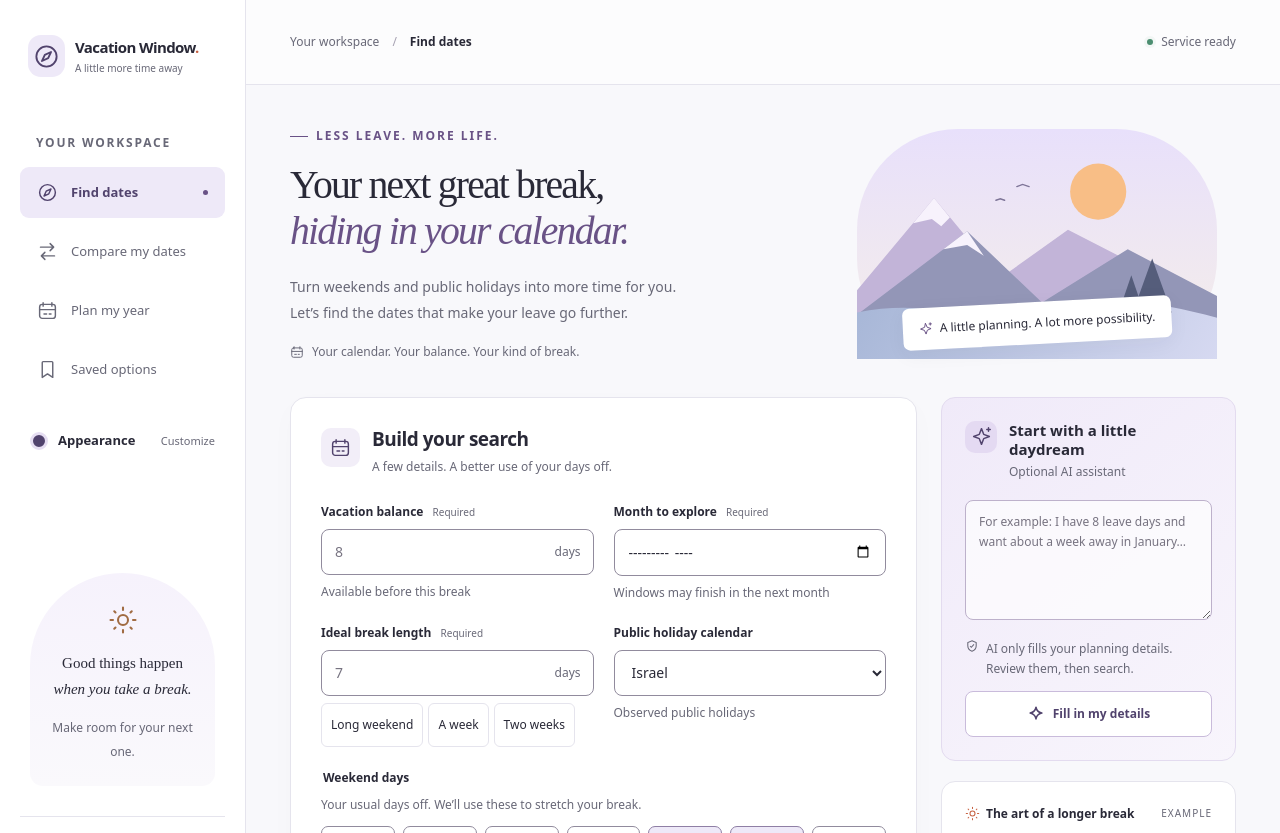
explicit generation shows aggregate leave and chronological charged dates
Check: the text "Service ready" is shown, box x1=1147 y1=33 x2=1236 y2=51
Click the button "Plan my year" at (122, 310), box x1=20 y1=285 x2=225 y2=336
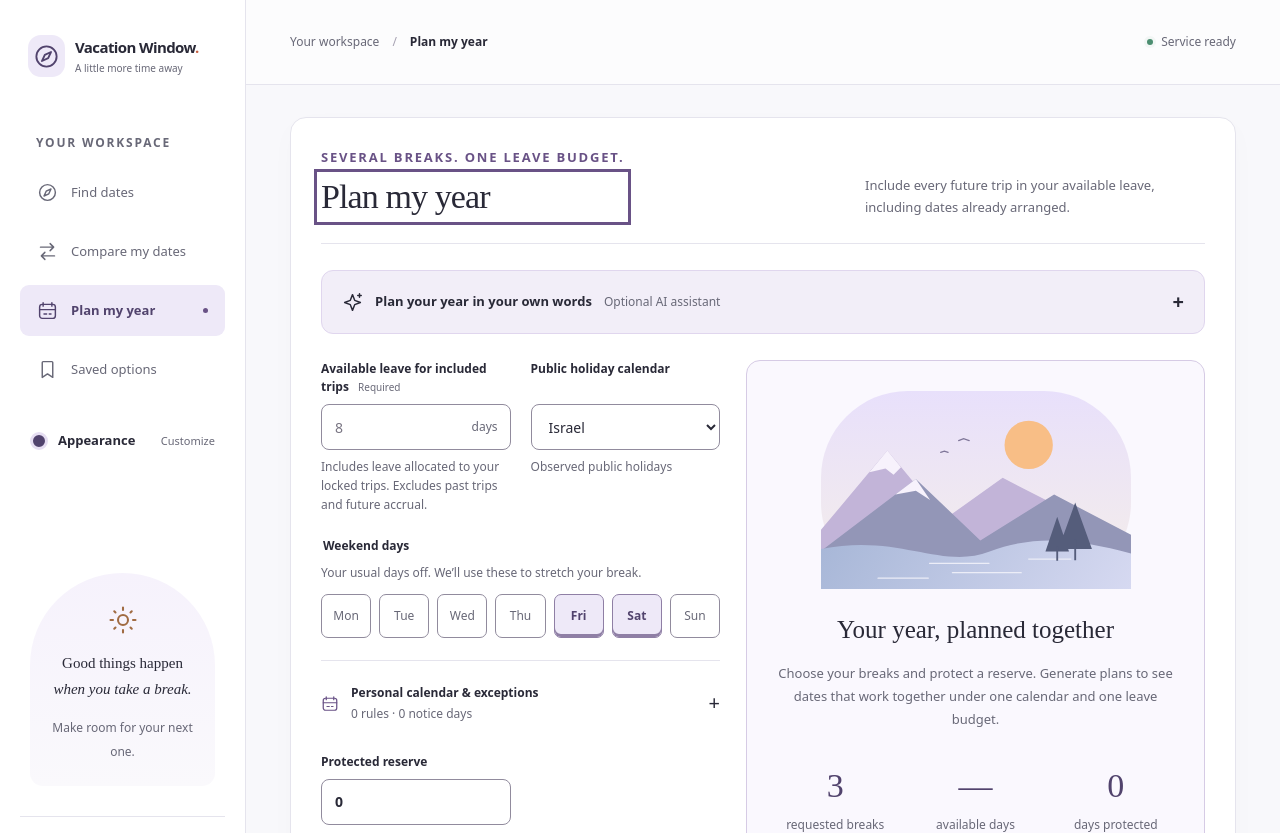
Type "18" into the number field labelled "Available leave for included trips" at (416, 427), box x1=321 y1=404 x2=510 y2=450
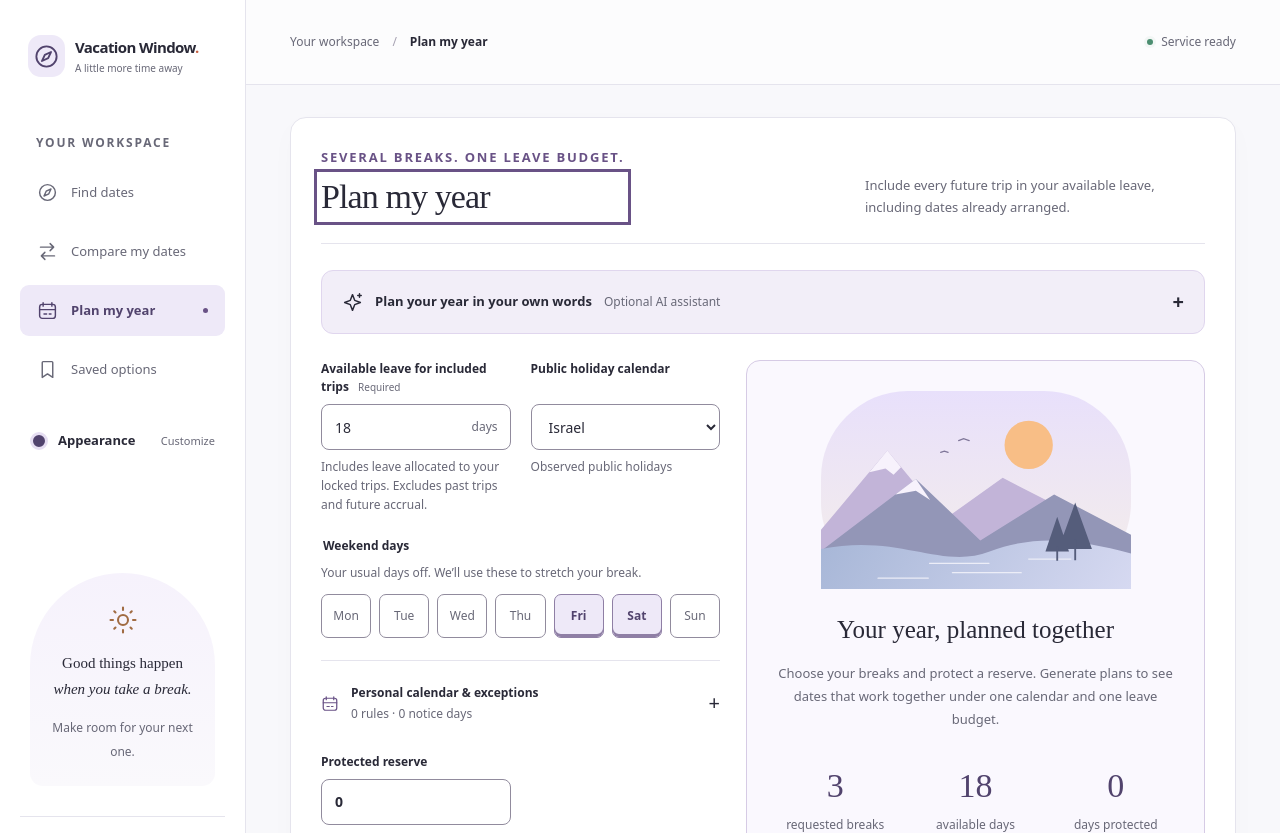
Replace the text in the number field labelled "Protected reserve" with "3" at (416, 802), box x1=321 y1=779 x2=510 y2=825
(page scrolled)
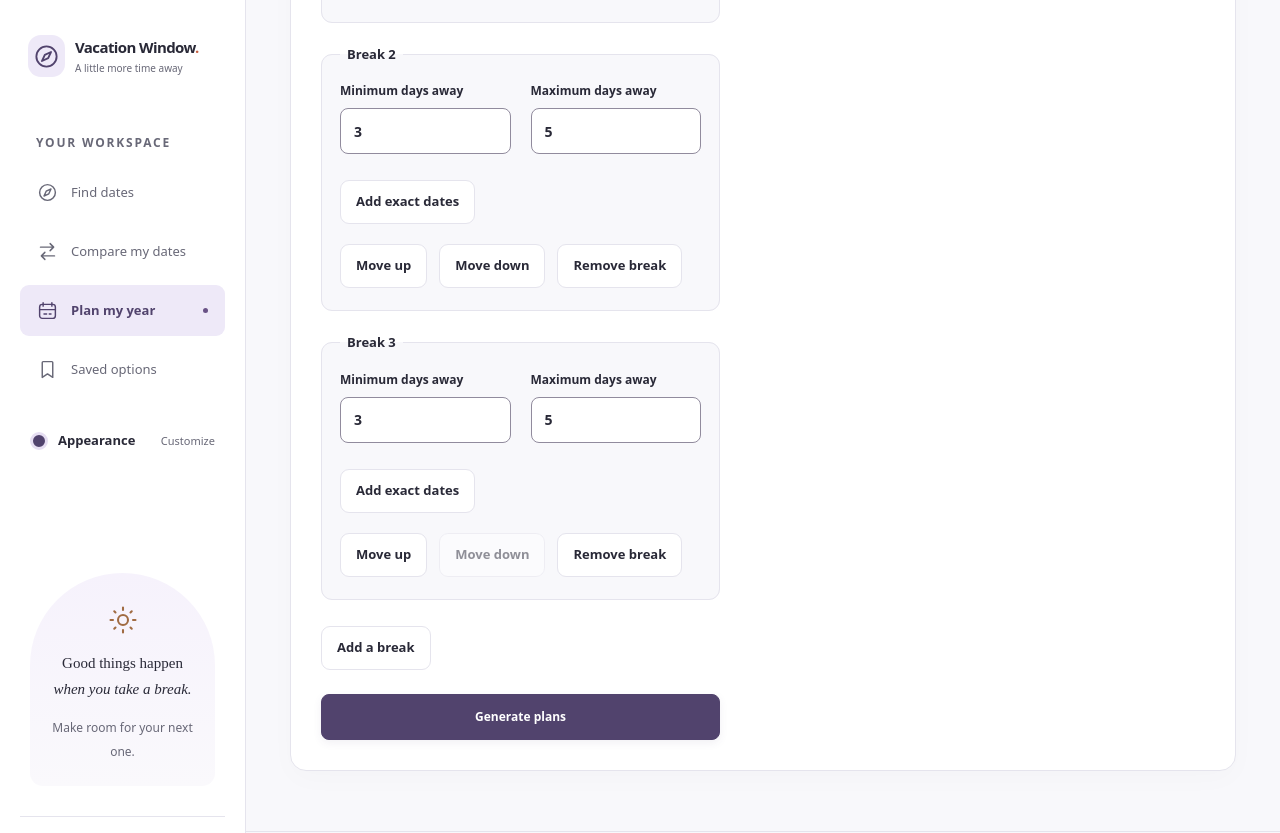
Click the button "Generate plans" at (521, 717), box x1=321 y1=694 x2=720 y2=740
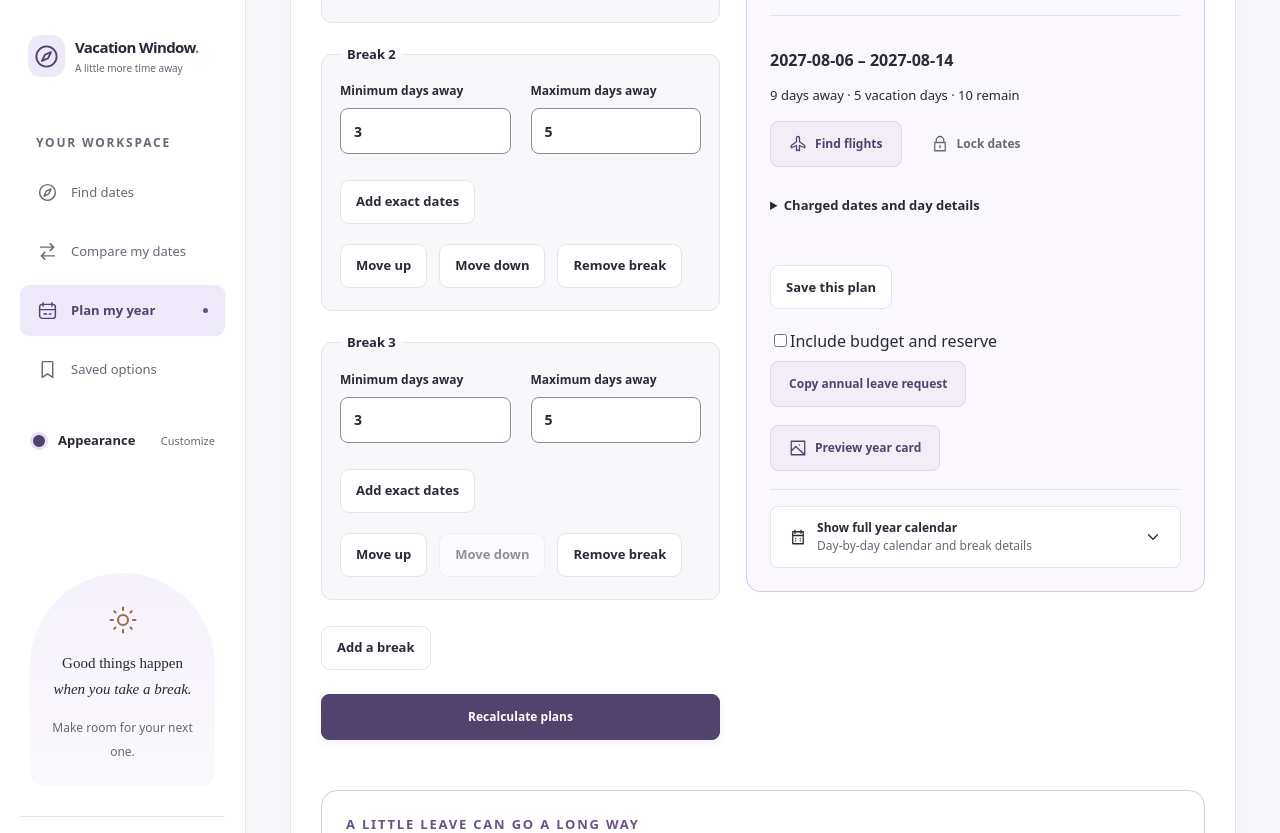
Check: the button "Copy annual leave request" is enabled, box x1=770 y1=361 x2=966 y2=407
